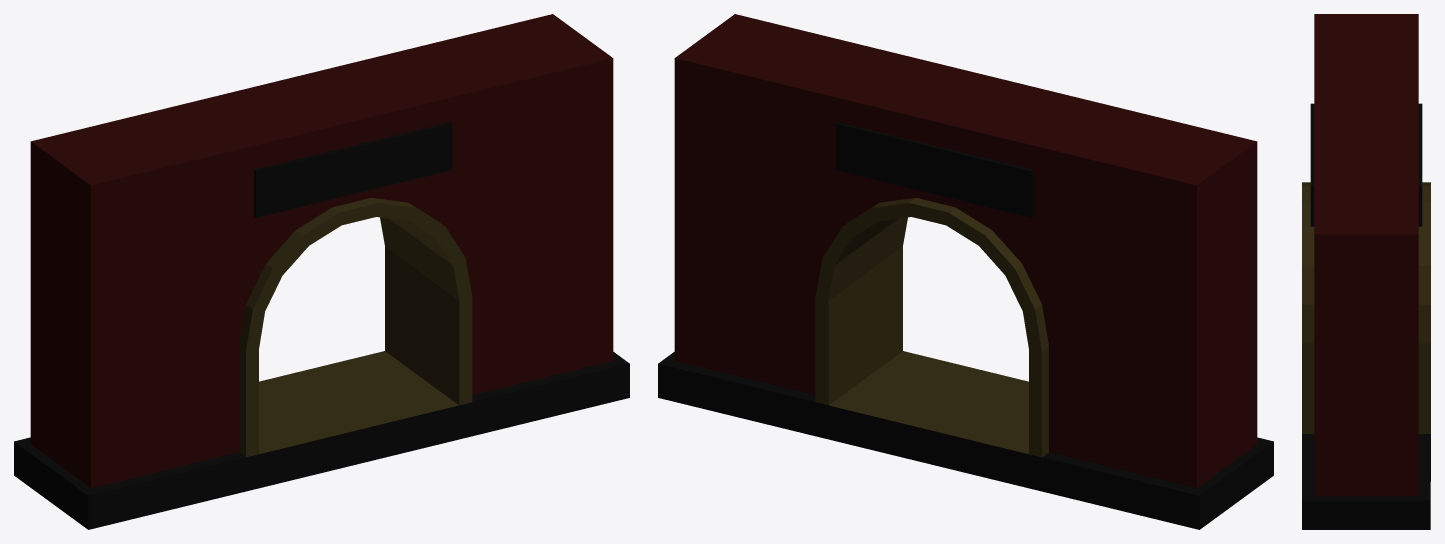
The model's file is Mur1.FBX.
3 renders of one model, left to right at view 1: azimuth 30°, elevation 25°; view 2: azimuth 150°, elevation 25°; view 3: azimuth 270°, elevation 25°, orthographic. The views are drawn at different scales.
Parts seen in each view (by area): view 1: Mur1; view 2: Mur1; view 3: Mur1.
Boxes of the visible parts, x1=… form: Mur1: x1=14, y1=14, x2=629, y2=529; Mur1: x1=658, y1=14, x2=1273, y2=529; Mur1: x1=1302, y1=14, x2=1430, y2=529.
Size of the model in its own units: 1045 by 621 by 249.
